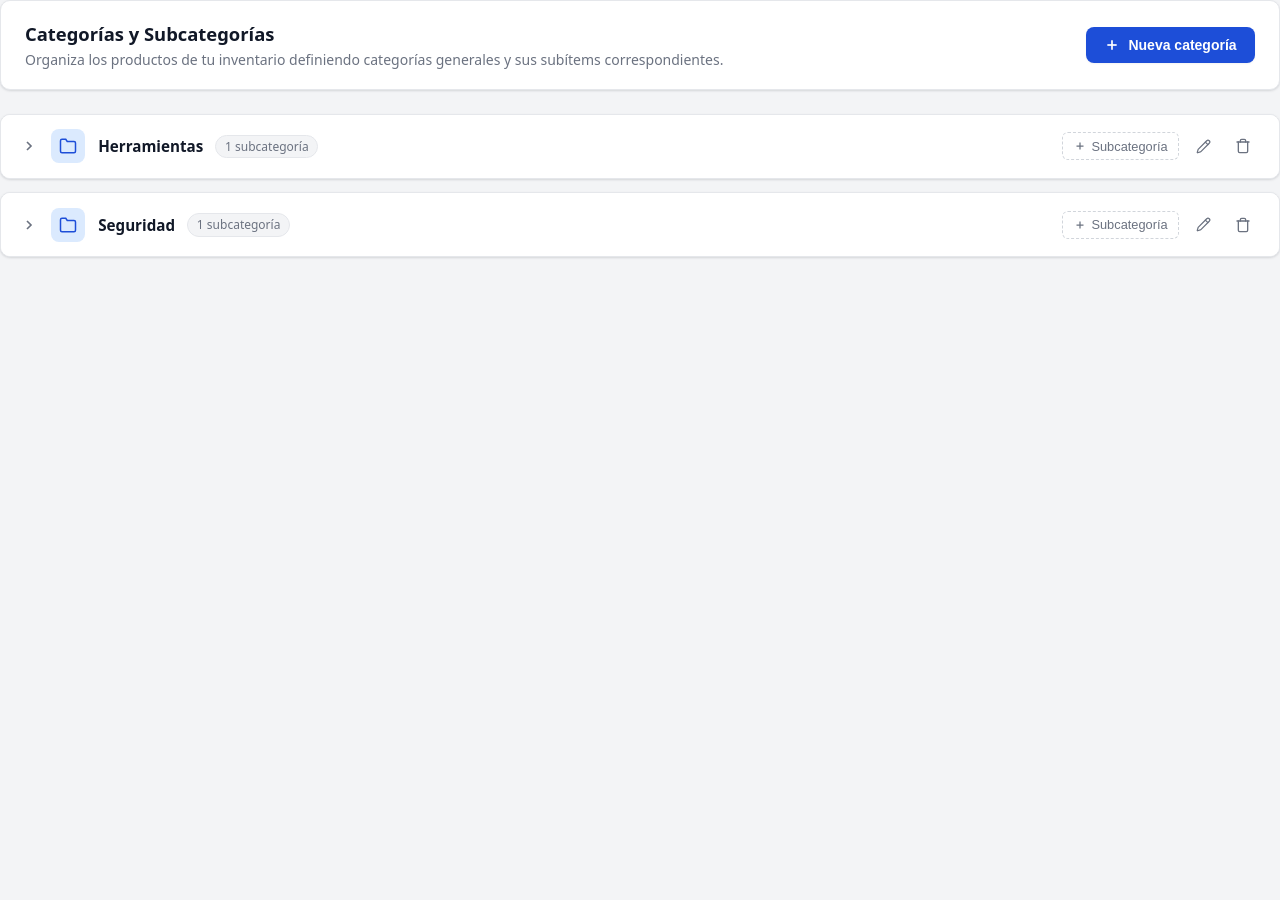
it: CategoriasConfiguracion › ofrece todas las sucursales de la empresa para el descuento por sucursal
The image size is (1280, 900).
Click the text "Herramientas": (151, 146) [98,136,203,156]
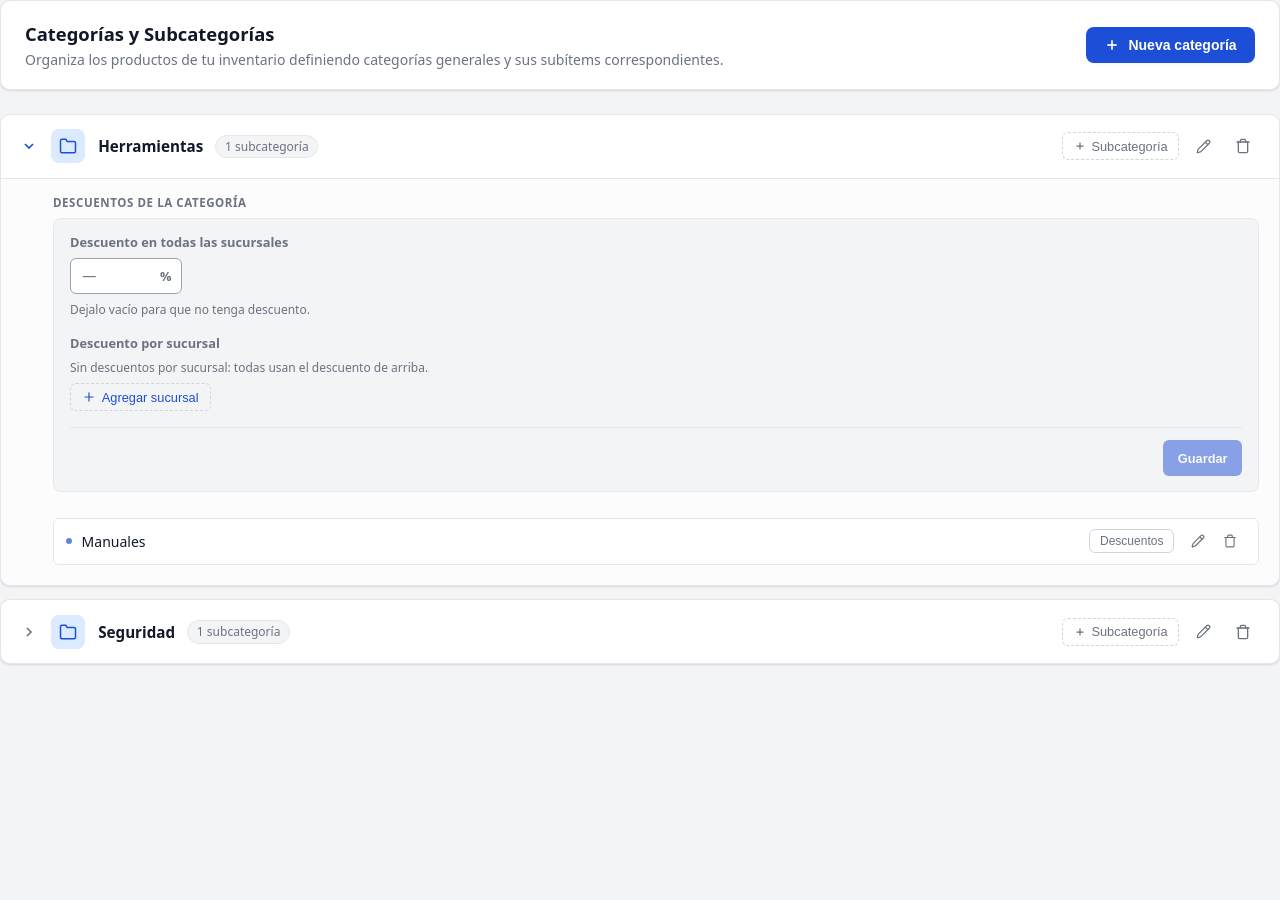
Click the button "Agregar sucursal": (140, 397) [70,383,211,411]
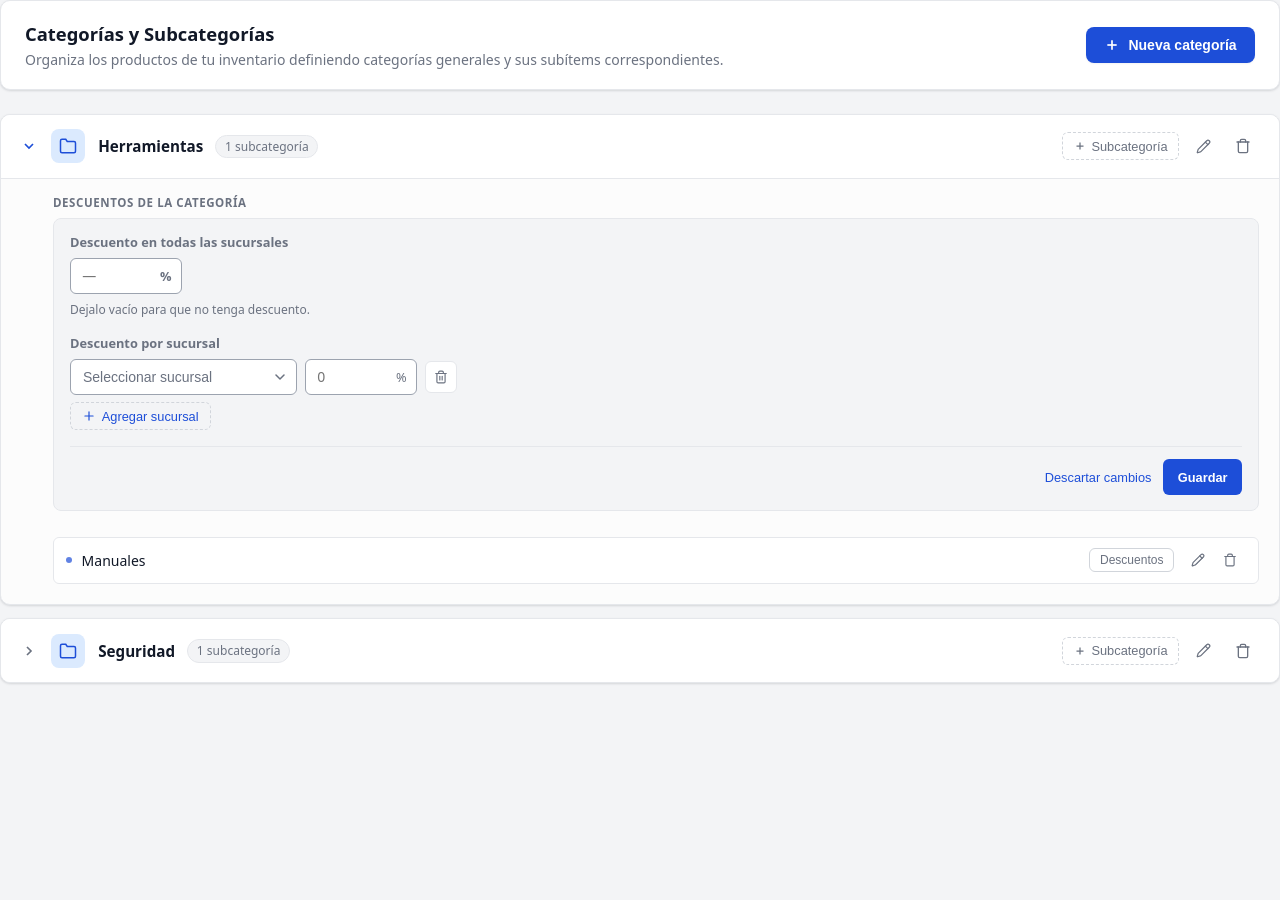
Focus the dropdown: (184, 377) [70,359,297,395]
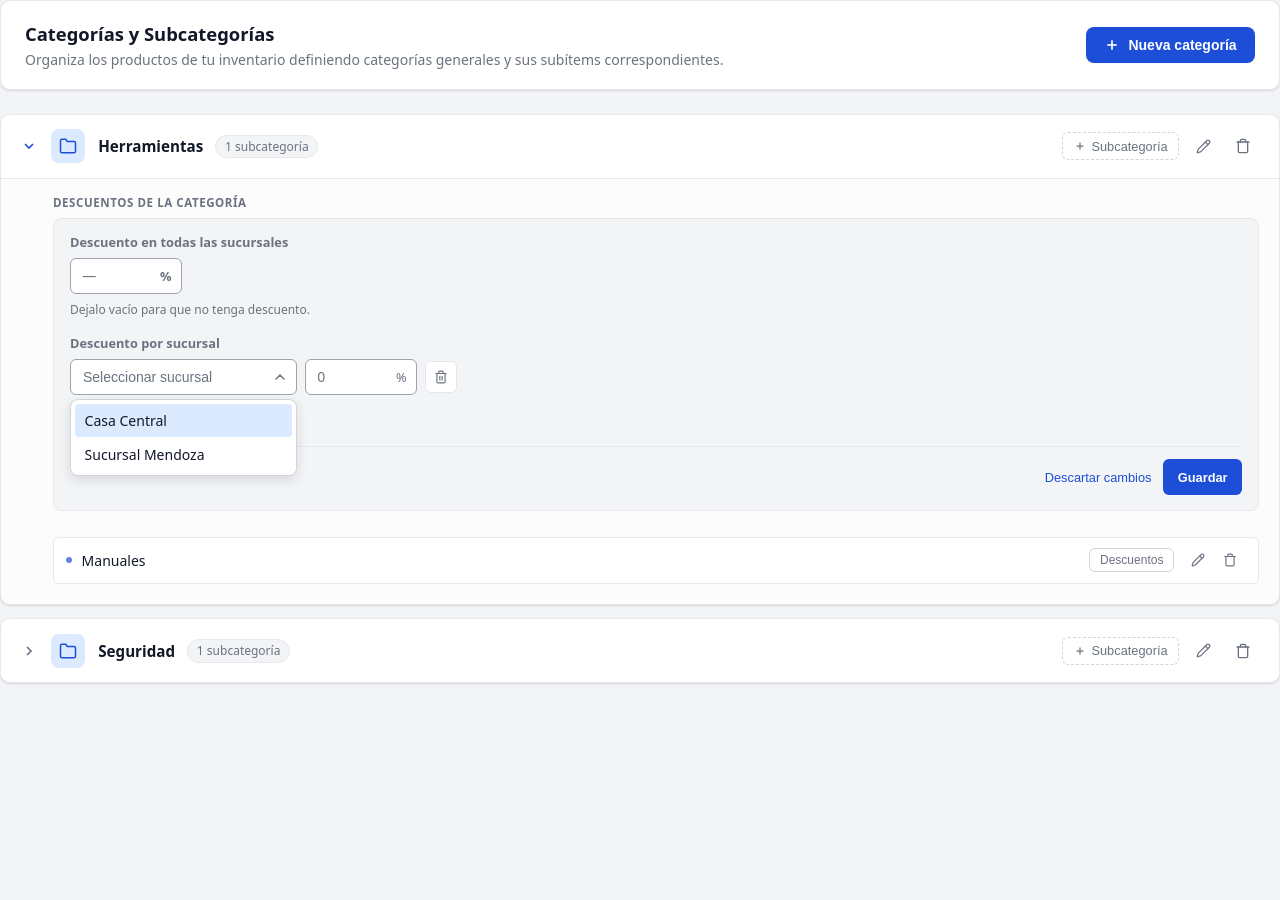
Now the option "Sucursal Mendoza" is shown, box [85,444,204,464]
